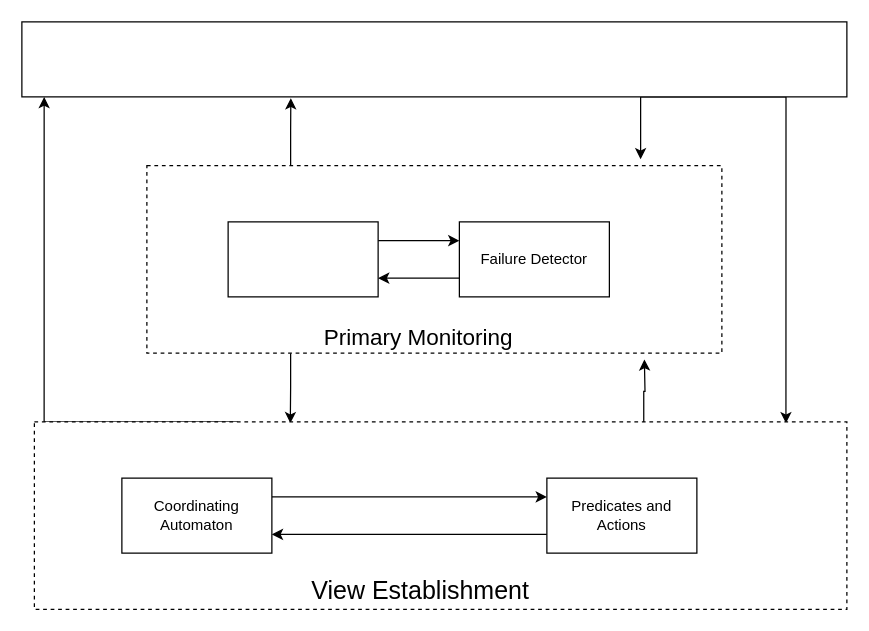
Some shapes in this 869 by 631 pixel diagram are drawn without their labels. The shapes that lost their labels are listed below. From the top down, each one's centre as x and y in pixels, then its label:
the point at 434,59: Replication
the point at 302,259: View Change
